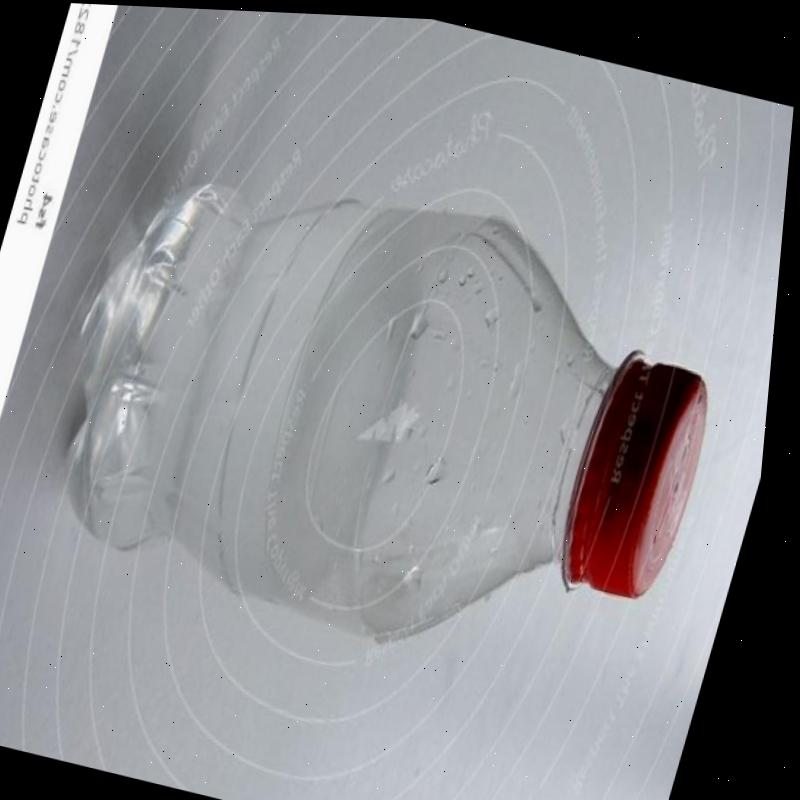botella: (22, 124, 761, 692)
